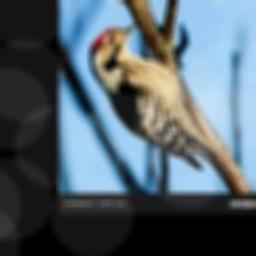Woodpecker: (89, 23, 217, 170)
